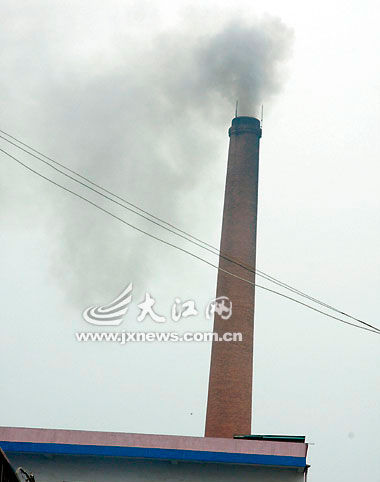dust: (170, 5, 304, 121)
